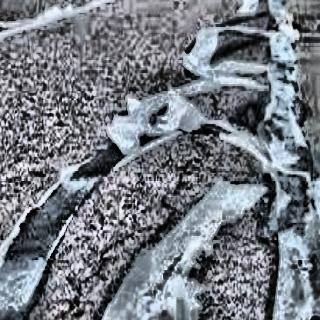crack: (62, 238, 105, 315), (157, 151, 193, 212), (214, 34, 268, 60), (217, 13, 267, 25)
pothole: (232, 94, 267, 140)
